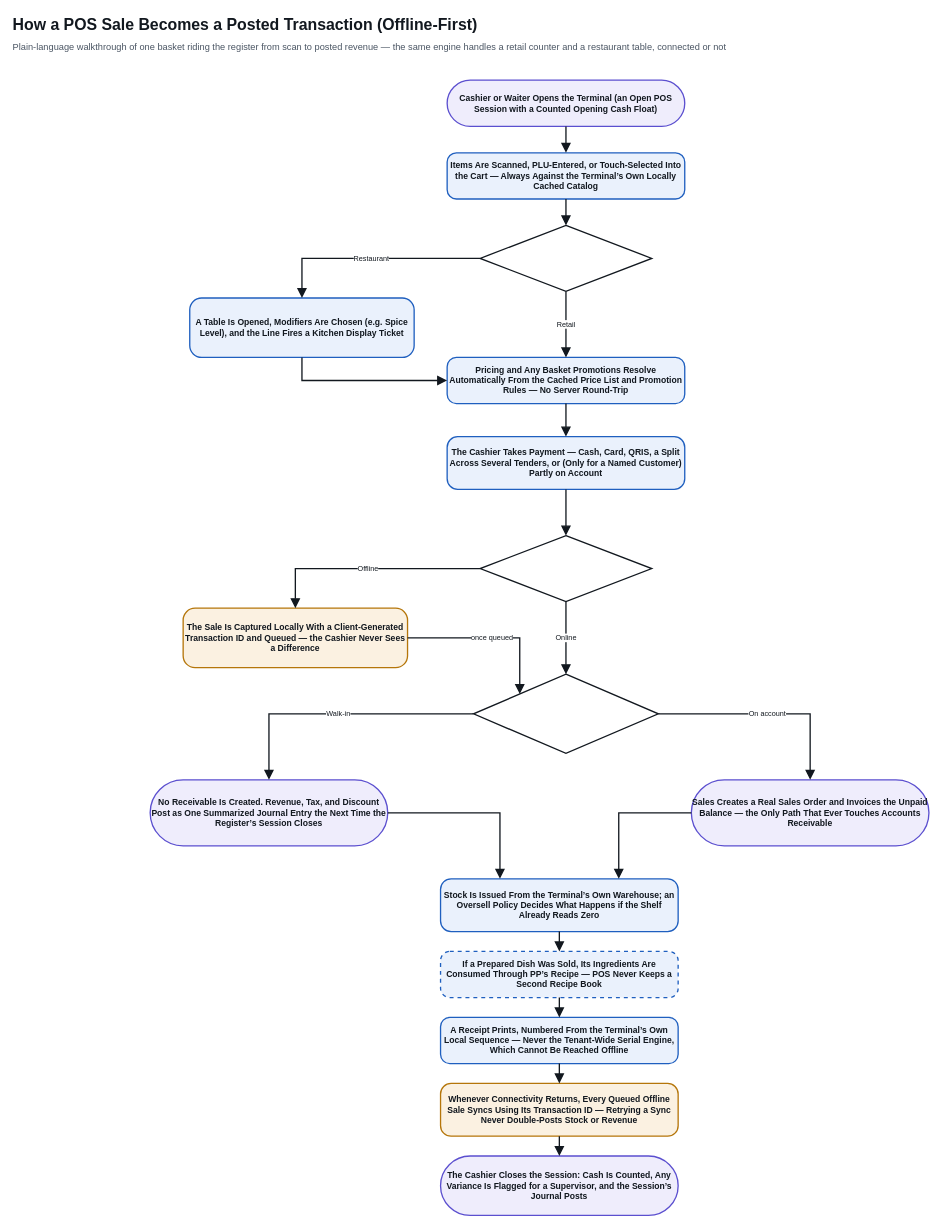
This 941x1227 diagram has some shape labels left out. Each missing label, with the centre of its shape:
"Is the Terminal Online Right Now?" goes at (x=565, y=568).
"Restaurant Table Order, or Retail Basket?" goes at (x=565, y=258).
"Walk-In, Fully Paid — or a Named Customer Buying on Account?" goes at (x=566, y=713).
